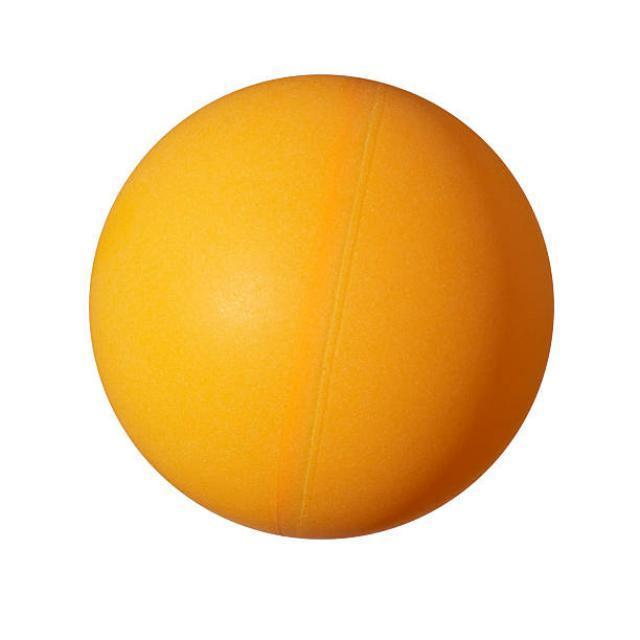oball: (87, 72, 555, 538)
